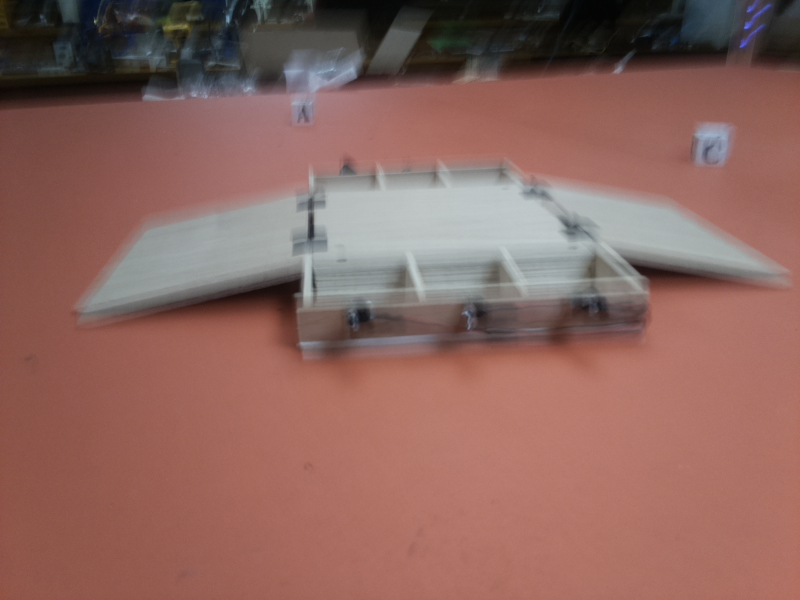blockA: (288, 96, 319, 128)
blockC: (691, 124, 729, 172)
corner: (725, 1, 770, 73)
side: (295, 241, 648, 365)
slope: (71, 163, 308, 330), (539, 169, 791, 292)
